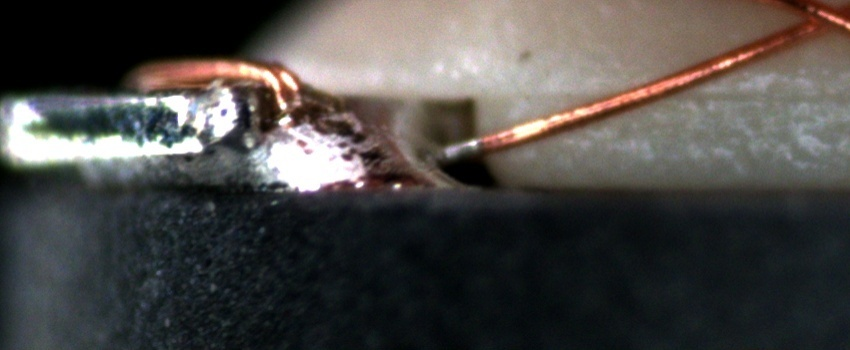CL: (770, 1, 845, 43)
DL: (530, 72, 850, 128)
TE: (131, 51, 335, 119)
TS: (436, 138, 480, 159)
